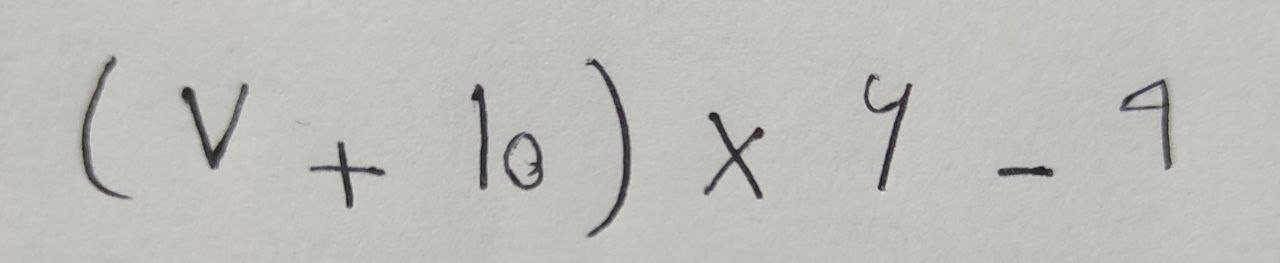character: (583, 58, 632, 239), (80, 58, 135, 203), (862, 73, 914, 191), (181, 84, 249, 172), (307, 140, 387, 209), (704, 112, 766, 201), (1118, 79, 1174, 171), (503, 131, 546, 191), (469, 84, 491, 189), (996, 165, 1055, 178)
